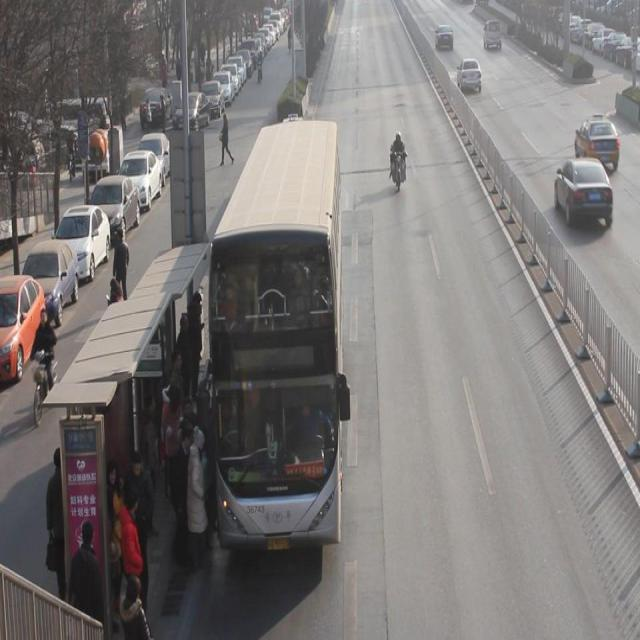car: (554, 160, 614, 233), (575, 115, 620, 174), (456, 59, 483, 97), (434, 25, 454, 54)
truck: (482, 20, 503, 55)
van: (206, 128, 341, 552)
